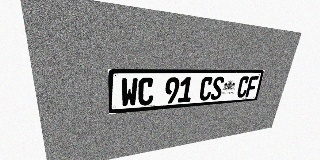1: (178, 77, 193, 103)
9: (164, 77, 180, 104)
C: (138, 77, 154, 106), (198, 77, 214, 101), (236, 76, 250, 98)
F: (245, 76, 259, 97)
S: (210, 76, 225, 100)
W: (121, 78, 138, 107)
